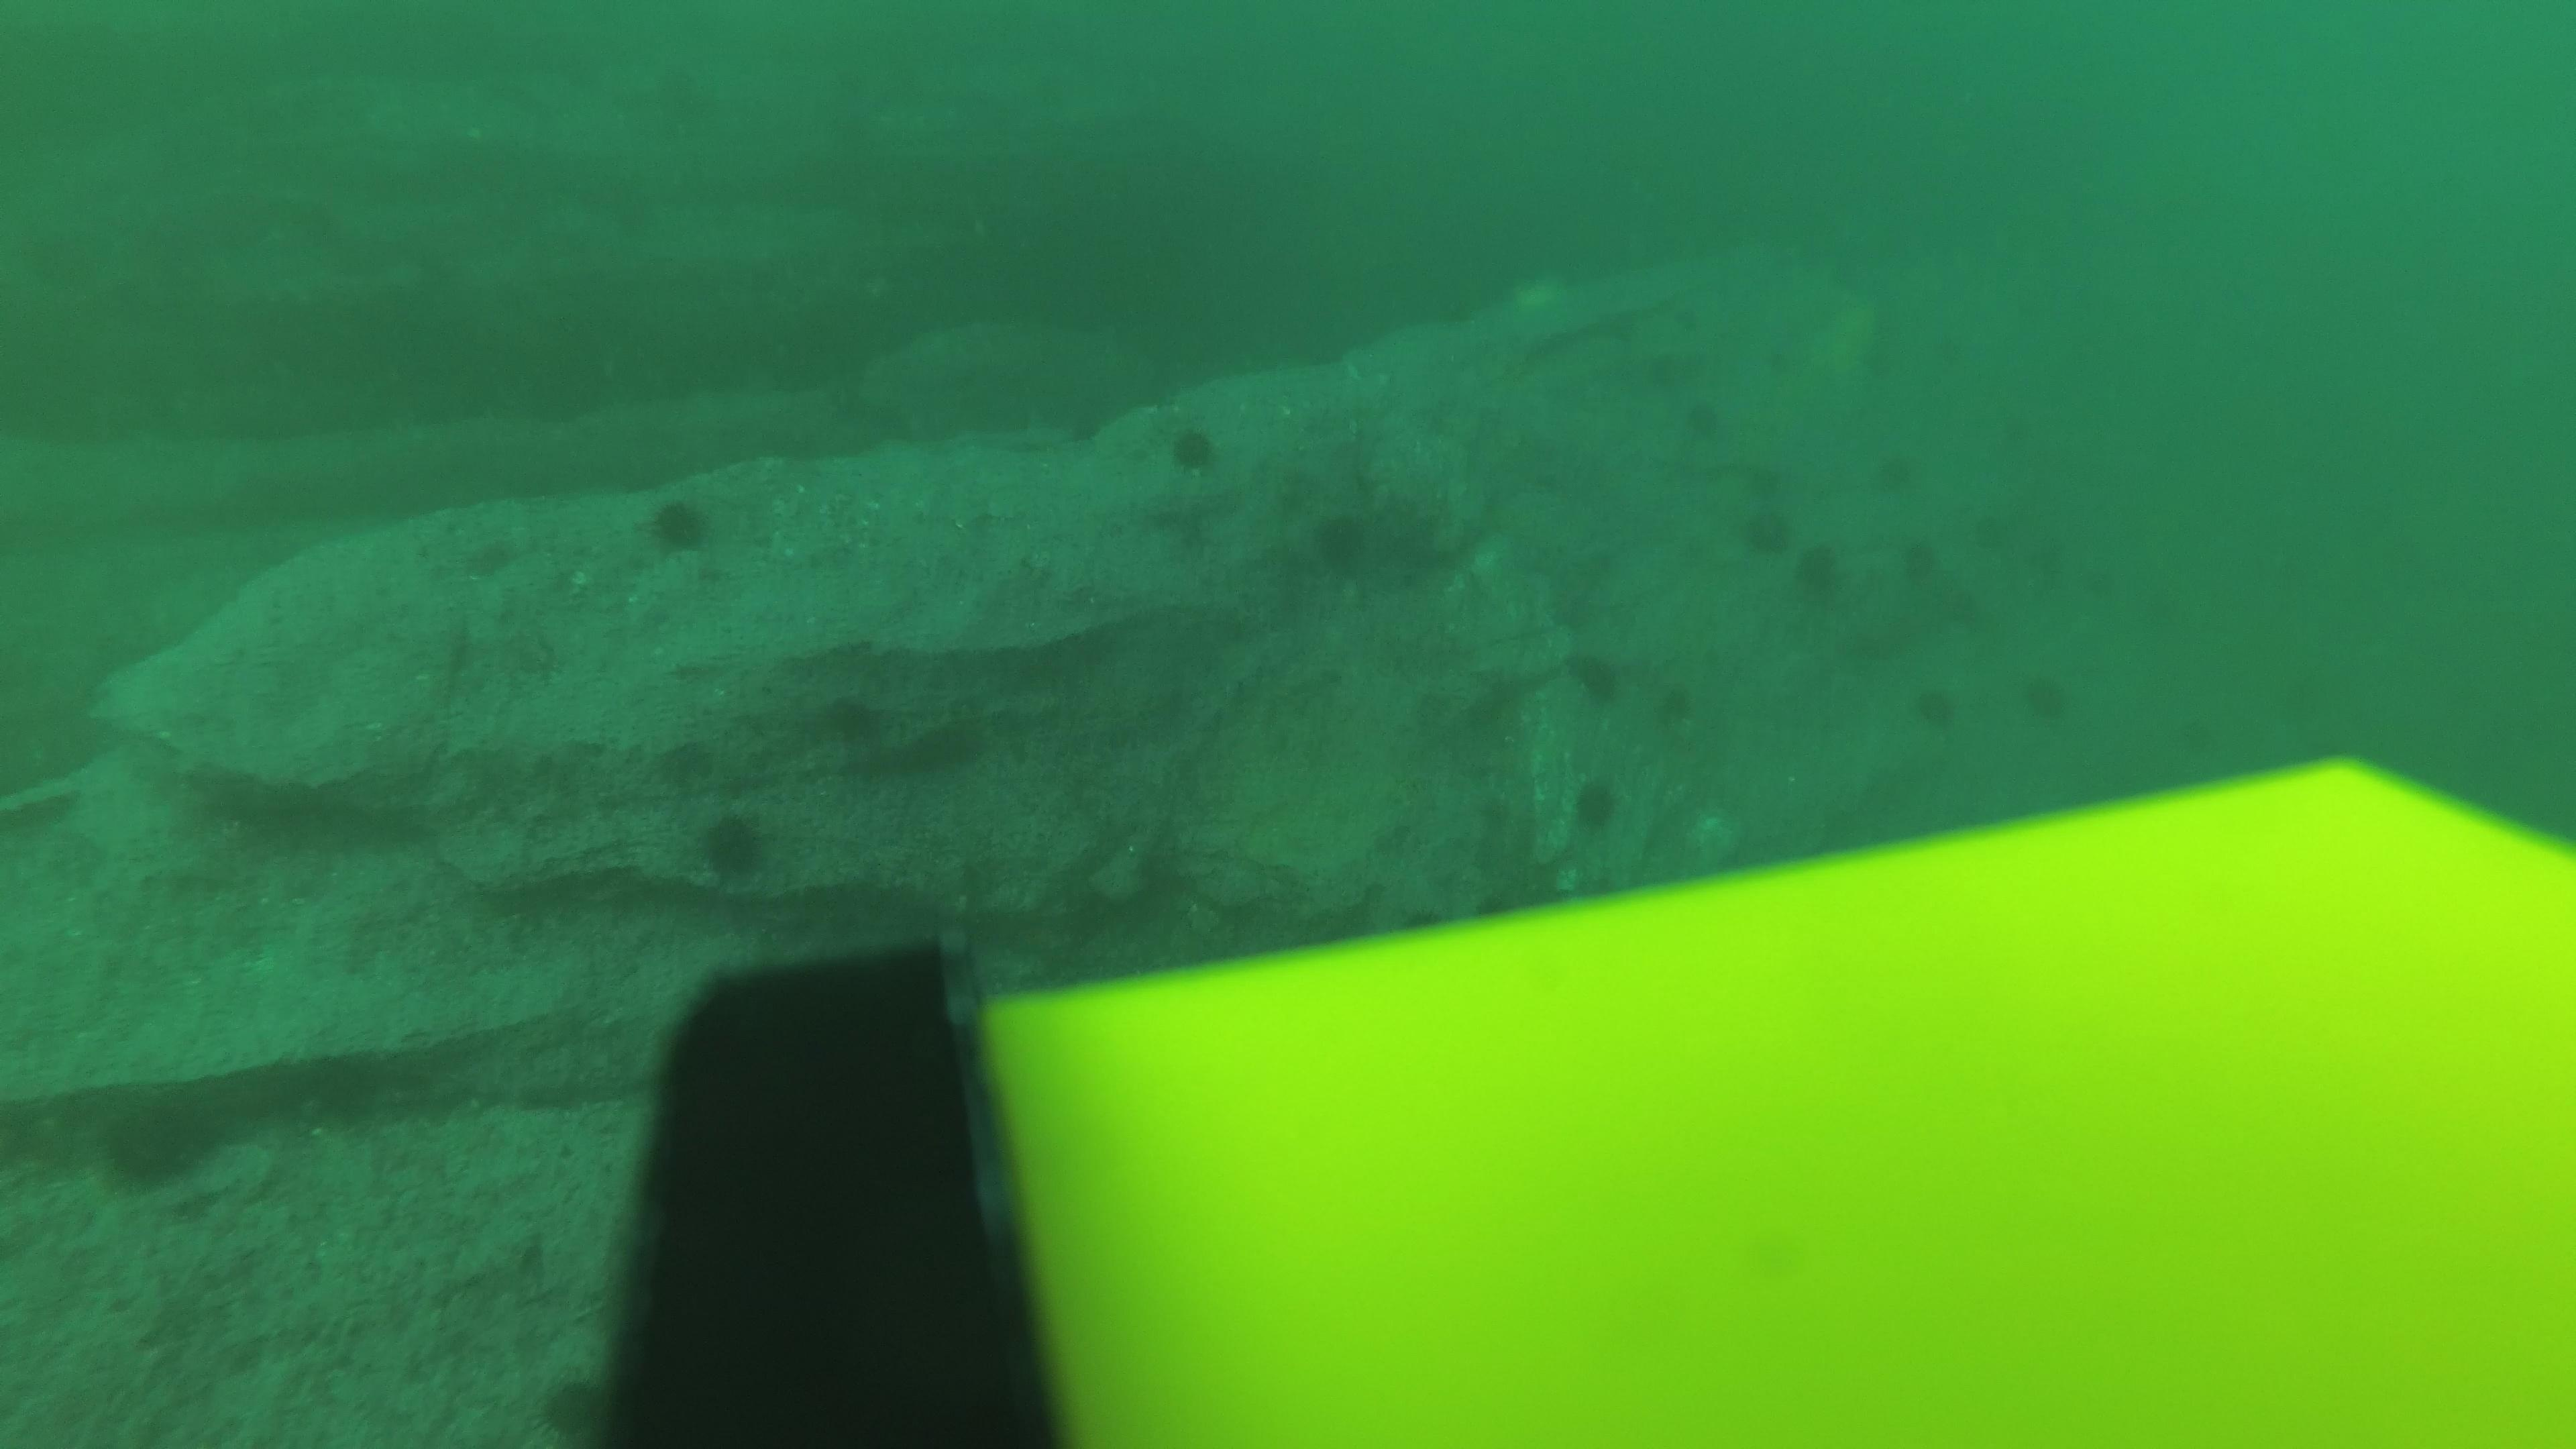echinus: (94, 1093, 225, 1192), (536, 1368, 628, 1445), (690, 805, 777, 885), (902, 706, 989, 777), (639, 490, 720, 561), (1307, 504, 1378, 582), (817, 688, 890, 752), (1564, 644, 1628, 711), (1789, 538, 1849, 603), (1568, 771, 1624, 837), (1162, 418, 1223, 478), (2019, 667, 2075, 727), (1736, 502, 1794, 559), (1909, 679, 1962, 734), (1684, 400, 1729, 444), (1902, 541, 1946, 586), (1874, 444, 1918, 488), (1967, 513, 2012, 556), (1950, 587, 1994, 630), (1652, 686, 1695, 725), (1645, 354, 1688, 393), (2088, 566, 2128, 605), (1865, 347, 1898, 380), (1759, 341, 1792, 375), (1925, 333, 1960, 364), (1663, 299, 1698, 331), (1999, 414, 2033, 446)
